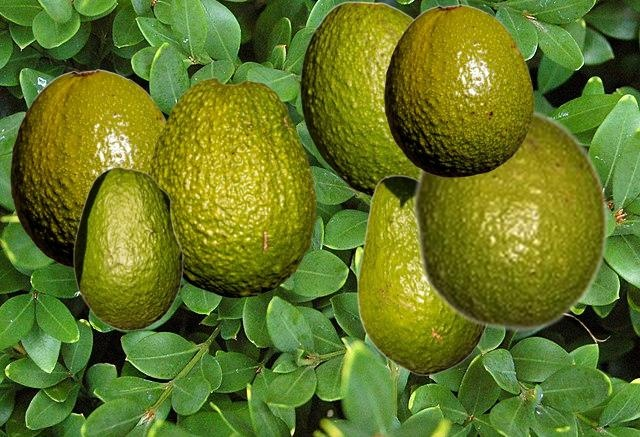avocado: (411, 108, 609, 333), (147, 77, 315, 297), (10, 69, 166, 268), (357, 175, 486, 374), (384, 4, 533, 176), (300, 1, 417, 197), (73, 166, 182, 330)
